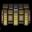Hide: (0, 2, 32, 27)
